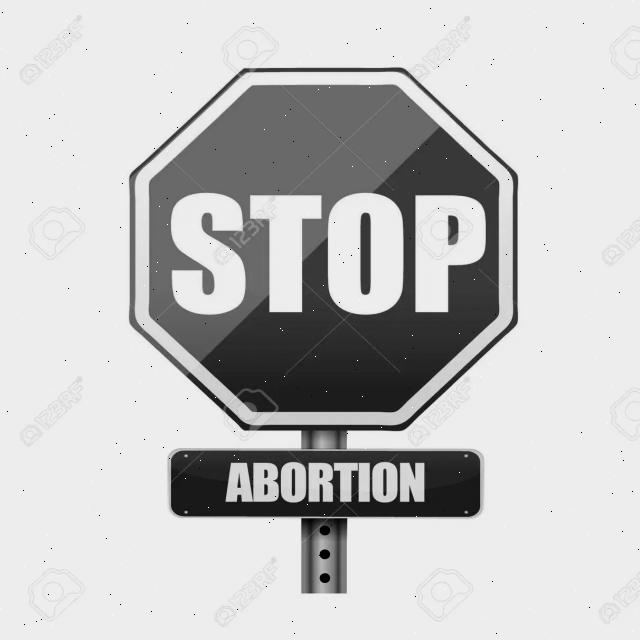Stop-sign: (87, 24, 564, 438)
